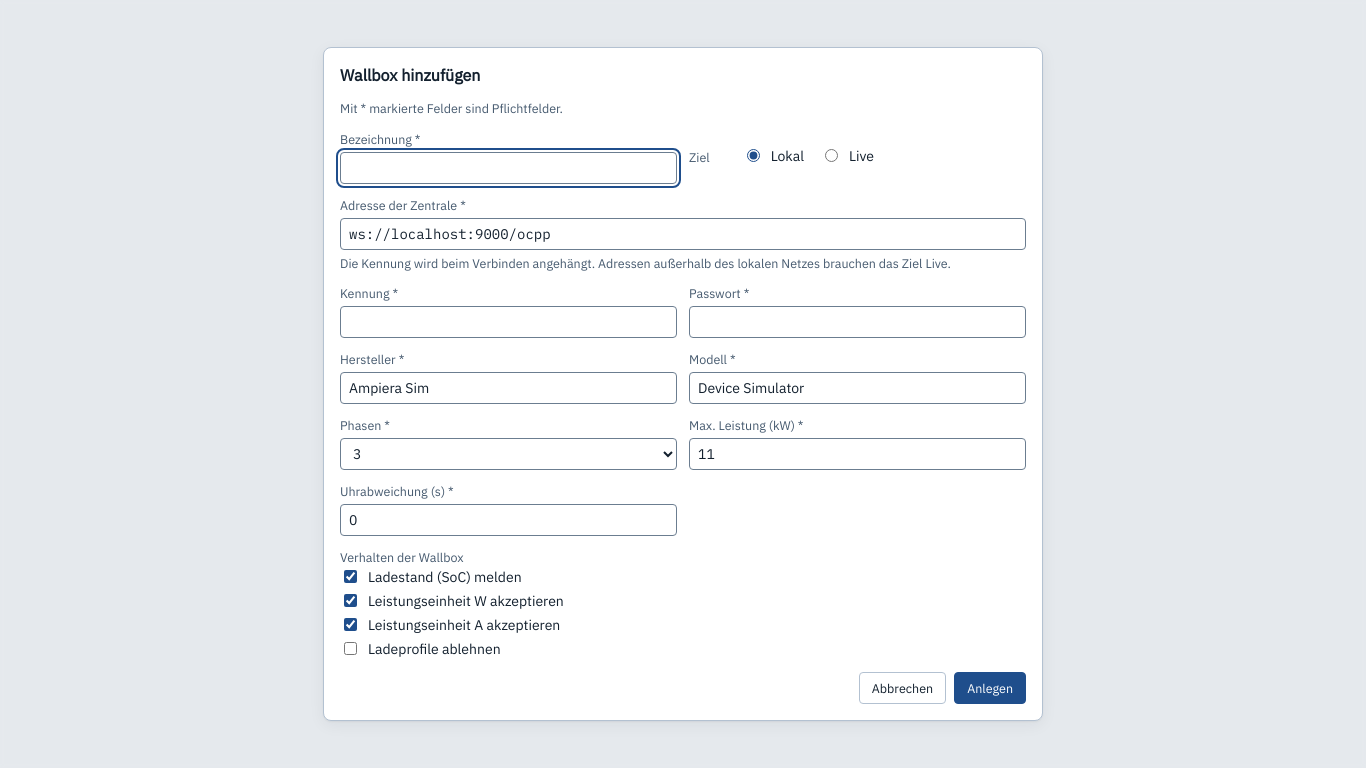
Test: AddBoxDialog › rejects an unencrypted address outside the private network and an invalid kennung
This screenshot has width=1366, height=768.
In the field labelled "Bezeichnung": [508, 168] box x1=340 y1=152 x2=677 y2=184, type "Box 1"
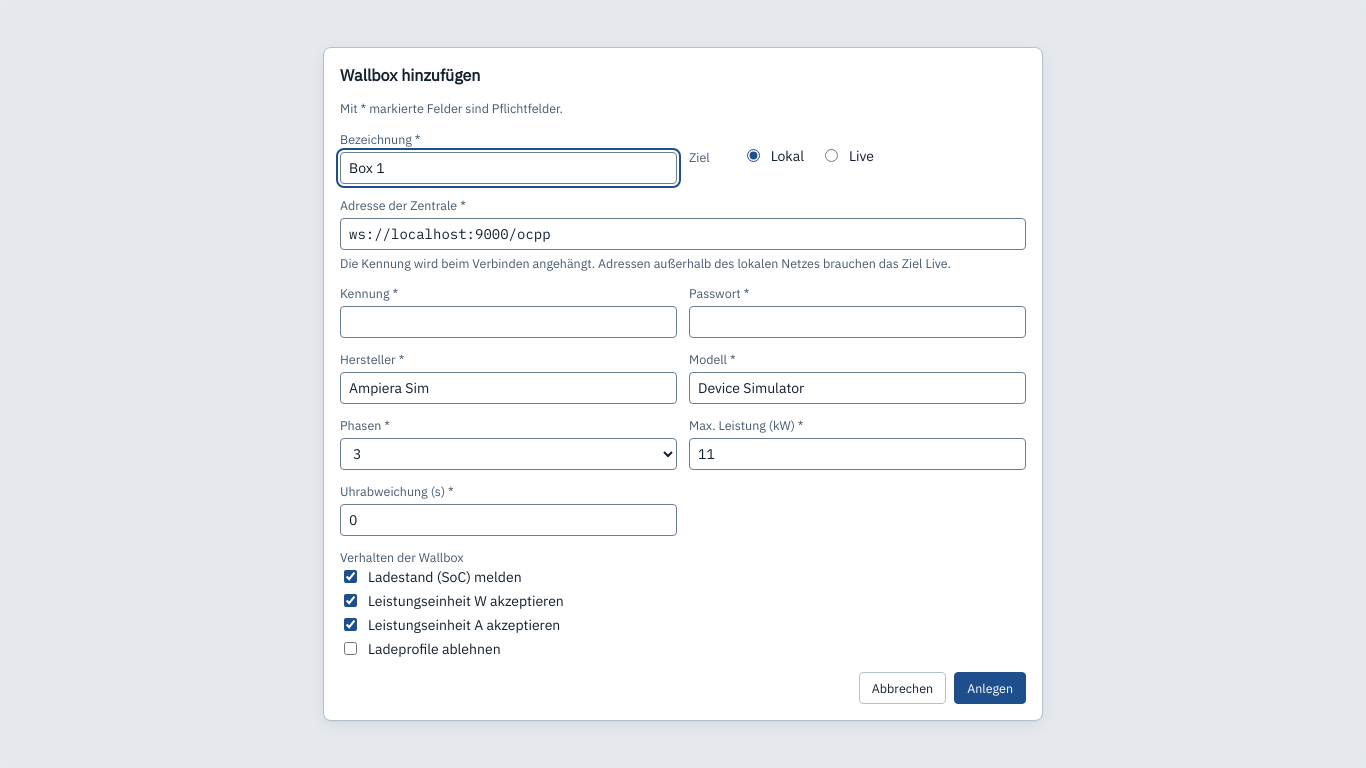
In the field labelled "Kennung": [508, 322] box x1=340 y1=306 x2=677 y2=338, type "AP7K2M9QX4RT"
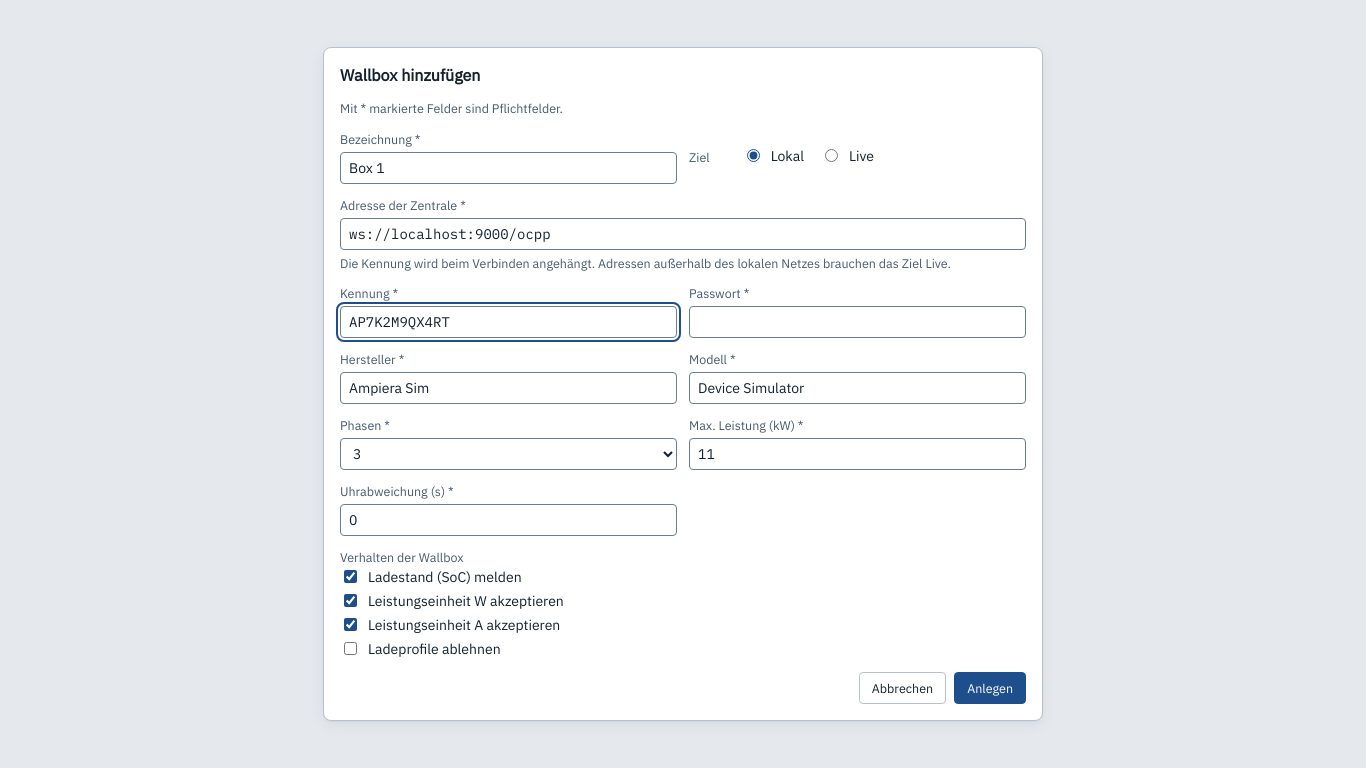
In the password field labelled "Passwort": [858, 322] box x1=689 y1=306 x2=1026 y2=338, type "geheim"
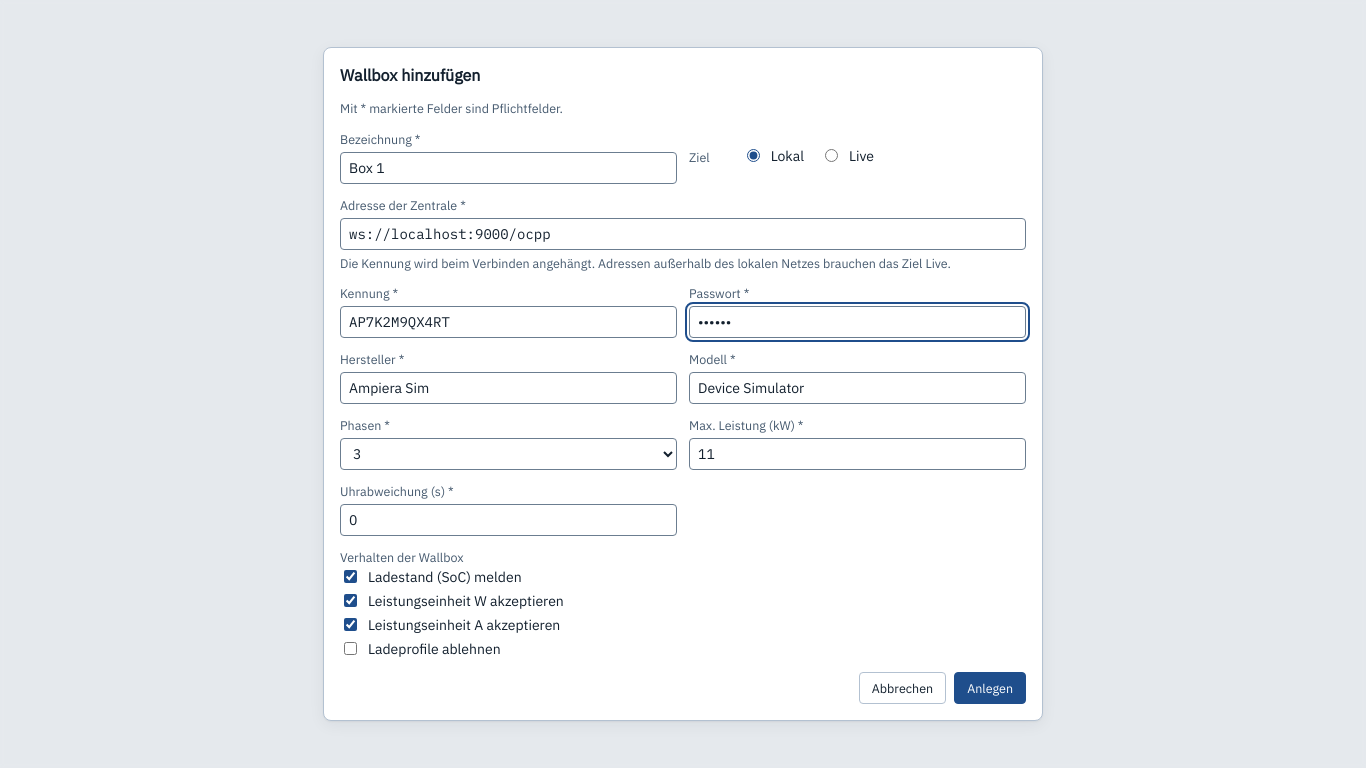
Replace the text in the field labelled "Adresse der Zentrale" with "ws://api.ampiera.de/ocpp": [683, 234] box x1=340 y1=218 x2=1026 y2=250
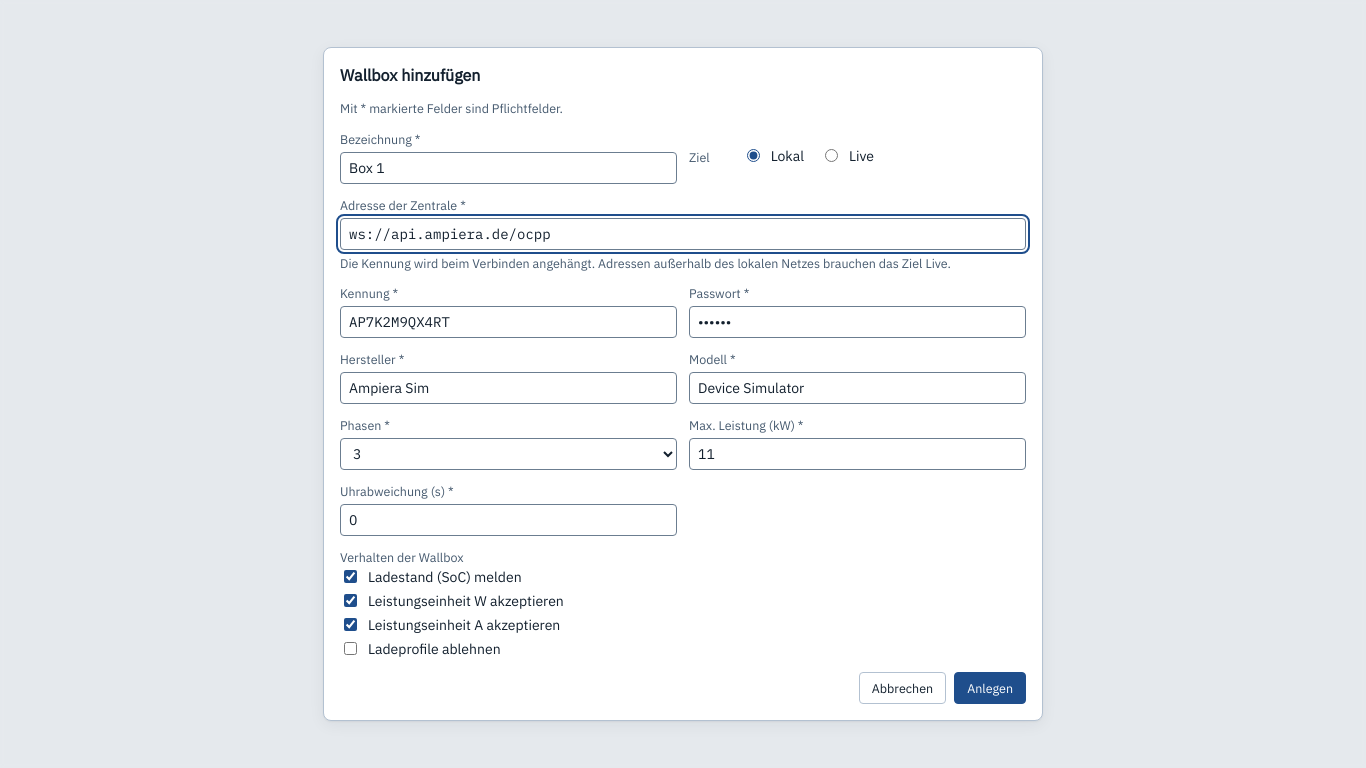
Replace the text in the field labelled "Kennung" with "mit leerzeichen": [508, 322] box x1=340 y1=306 x2=677 y2=338
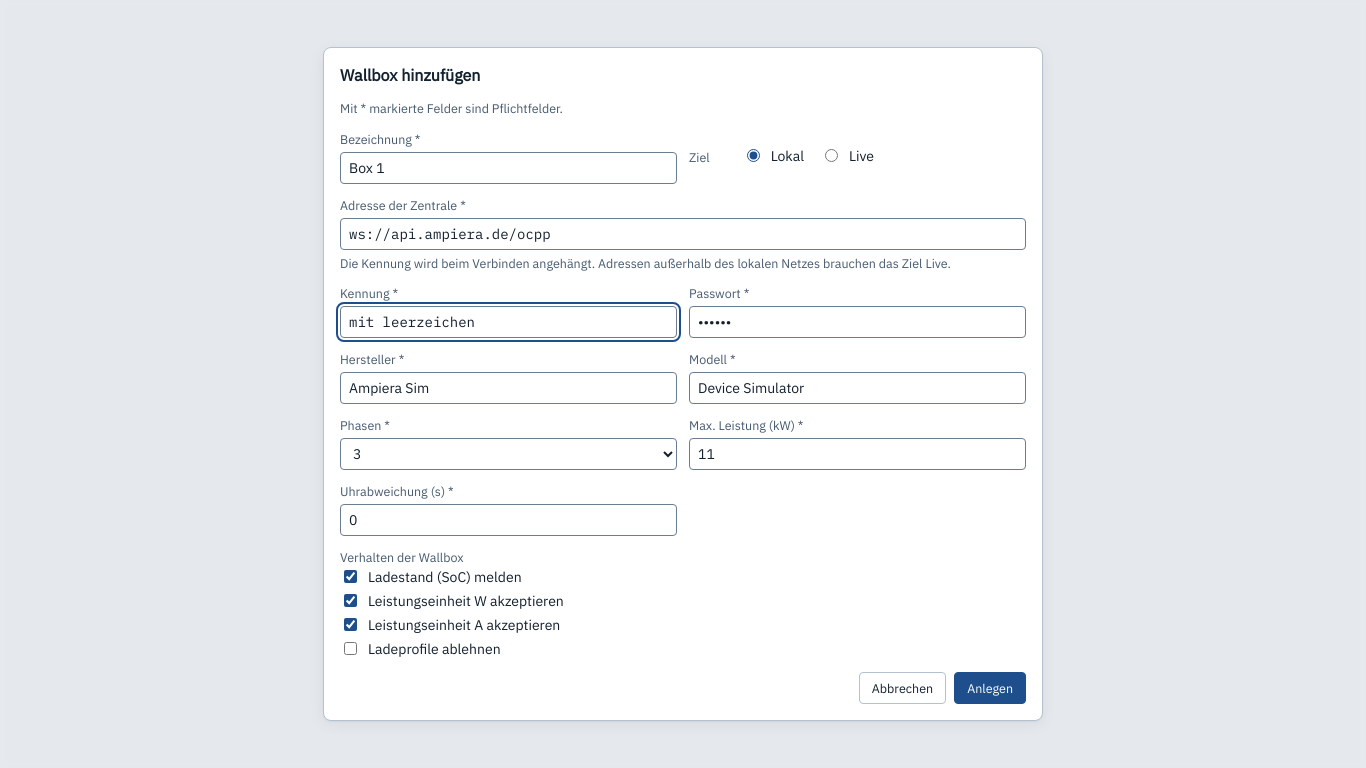
Click the button "Anlegen": [990, 688] box x1=954 y1=672 x2=1026 y2=704
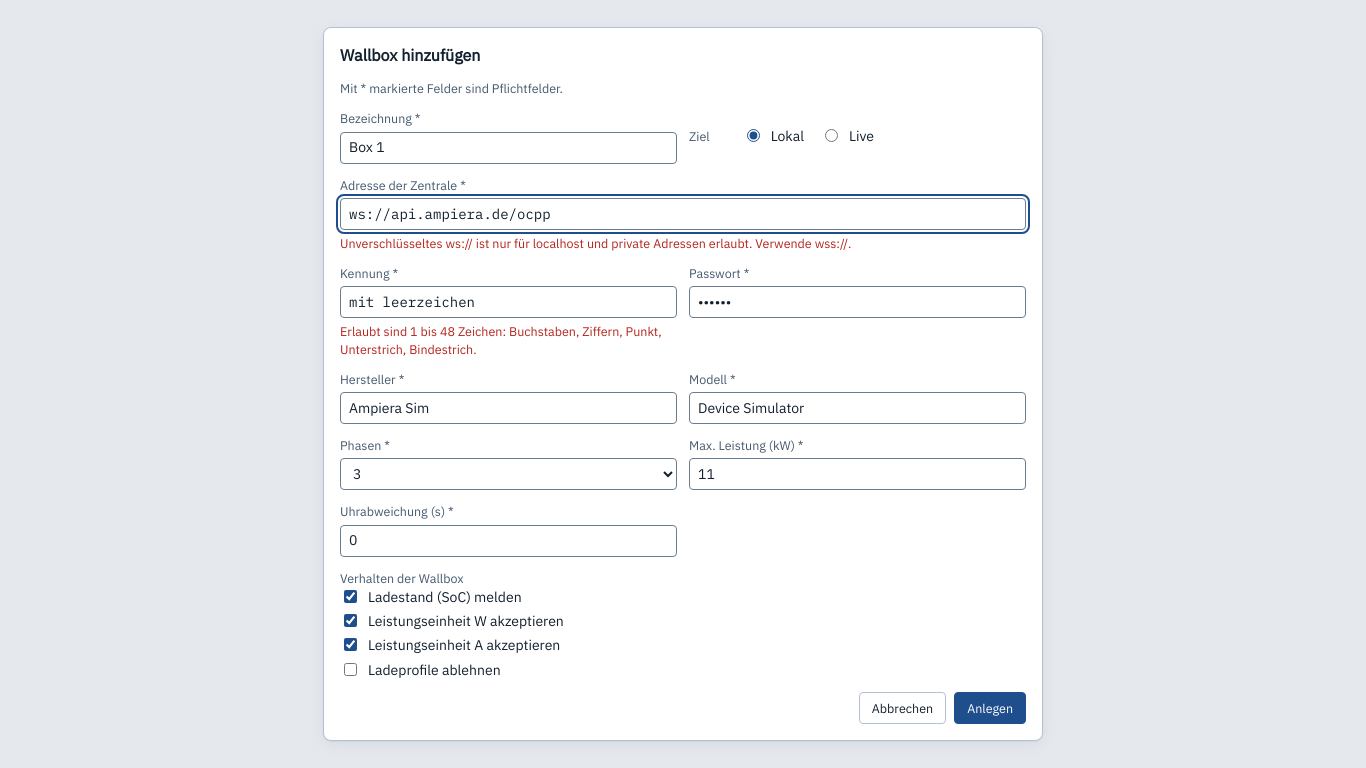
Expected: the text "nur für localhost und private Adressen" is shown, x1=340 y1=235 x2=852 y2=251
Expected: the text "1 bis 48 Zeichen" is shown, x1=340 y1=323 x2=662 y2=357
